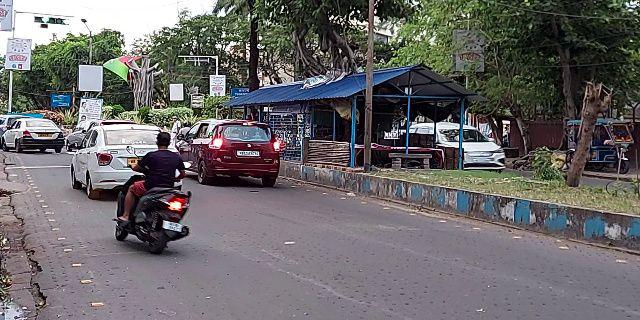Car: (80, 120, 178, 200), (194, 116, 278, 190), (10, 117, 66, 154)
Motorbike: (106, 138, 197, 263)
